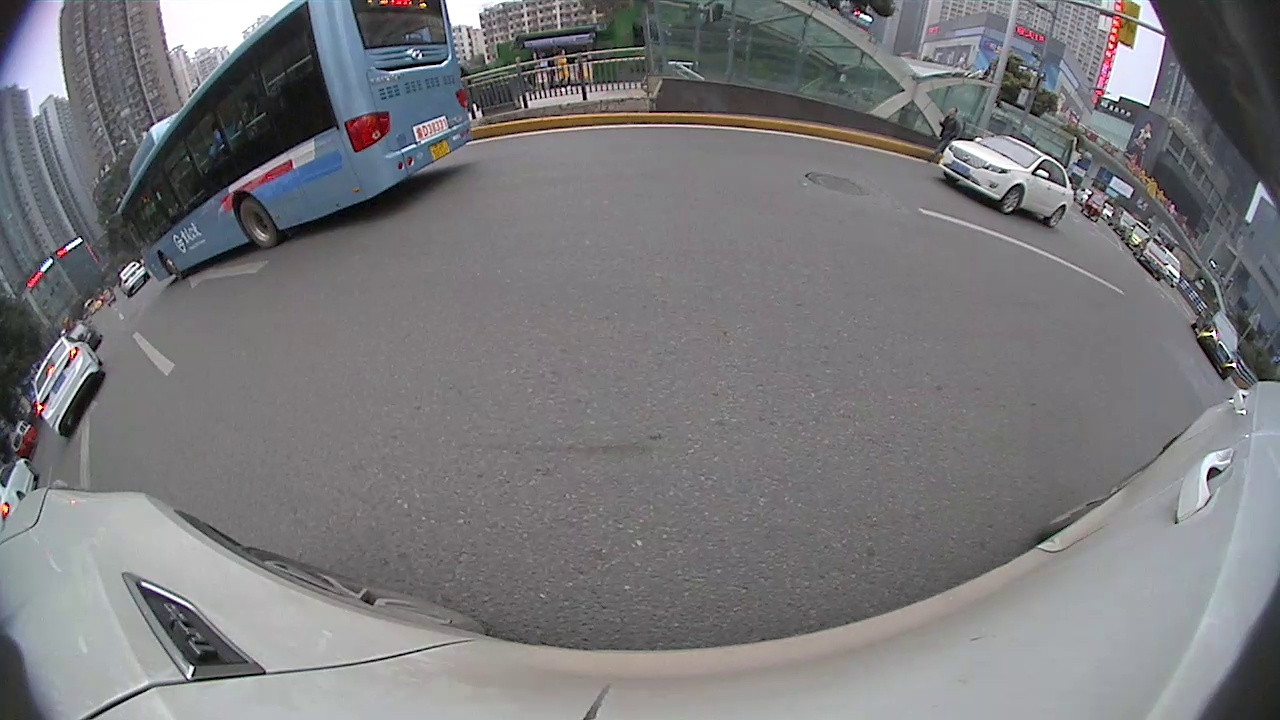bus: (118, 1, 473, 285)
car: (938, 133, 1073, 230), (31, 331, 106, 440), (1191, 308, 1239, 378), (3, 457, 38, 524), (1132, 237, 1170, 282), (118, 258, 153, 298), (68, 321, 105, 350), (1123, 221, 1151, 251), (1163, 253, 1182, 292)
front: (997, 185, 1027, 215), (162, 252, 181, 279)
rear: (236, 196, 282, 250), (1047, 202, 1070, 230)
